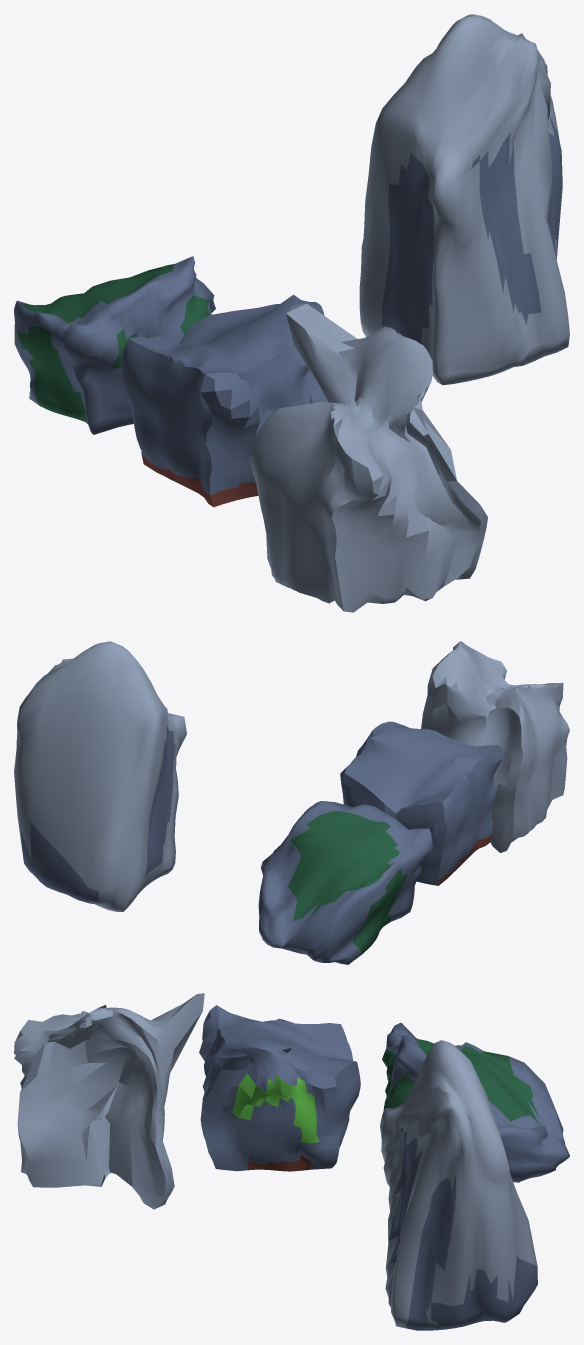
Rendered from Rocks.fbx.
3 renders of one model, top to bottom at view 1: azimuth 30°, elevation 25°; view 2: azimuth 150°, elevation 25°; view 3: azimuth 270°, elevation 25°, orthographic. The views are drawn at different scales.
Parts seen in each view (by area): view 1: Rock.003, Rock.002, Rock, Rock.001; view 2: Rock.003, Rock.001, Rock.002, Rock; view 3: Rock.003, Rock.002, Rock, Rock.001.
Boxes of the visible parts, left/top/right/bottom form: Rock.003: left=359, top=14, right=569, bottom=385; Rock.002: left=250, top=303, right=487, bottom=612; Rock: left=121, top=294, right=326, bottom=507; Rock.001: left=14, top=256, right=215, bottom=434; Rock.003: left=14, top=641, right=186, bottom=911; Rock.001: left=258, top=801, right=432, bottom=964; Rock.002: left=421, top=641, right=569, bottom=852; Rock: left=340, top=721, right=502, bottom=885; Rock.003: left=380, top=1040, right=537, bottom=1330; Rock.002: left=14, top=993, right=204, bottom=1209; Rock: left=199, top=1005, right=360, bottom=1171; Rock.001: left=382, top=1022, right=569, bottom=1182.
Bounding box in the file's own units: 1652 × 1055 × 1868.
